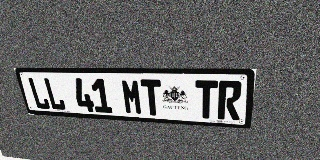1: (89, 78, 113, 113)
4: (72, 78, 95, 112)
L: (27, 77, 51, 110), (43, 78, 67, 111)
M: (120, 79, 143, 115)
R: (217, 81, 243, 120)
T: (195, 80, 218, 119), (140, 79, 163, 116)
